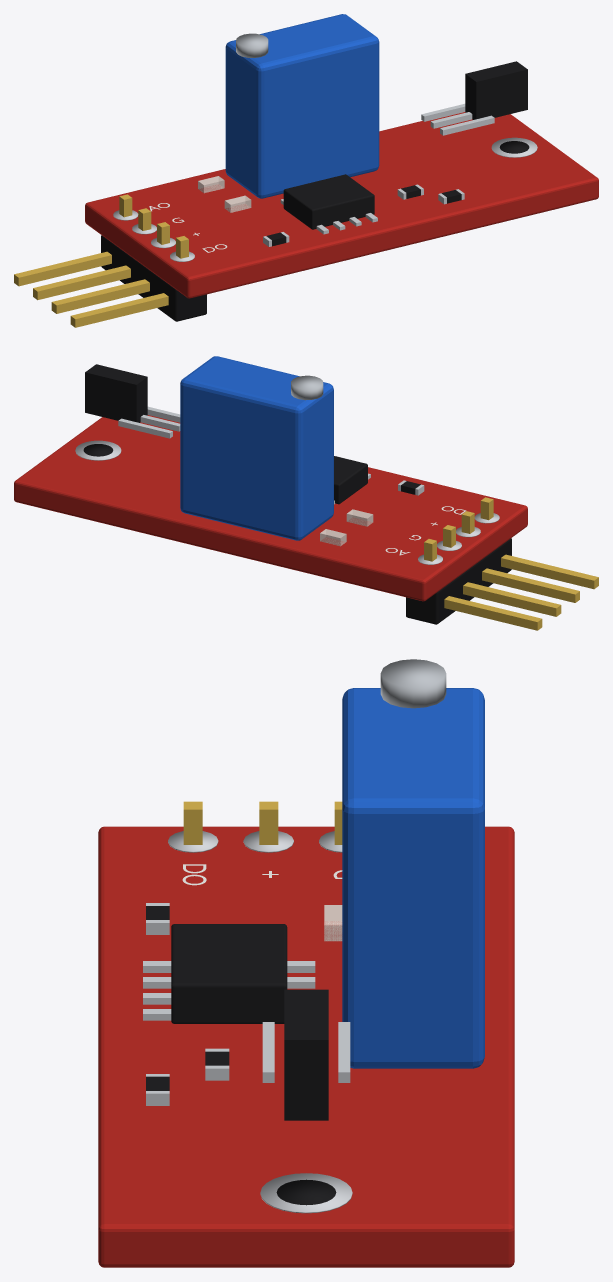
The model's file is linear-hall-sensor.glb.
3 views of the same model, one above another, from view 1: azimuth 30°, elevation 25°; view 2: azimuth 150°, elevation 25°; view 3: azimuth 270°, elevation 25° (orthographic). The views are drawn at different scales.
Parts seen in each view (by area): view 1: pcb.011, trimpot, lm393, part.047, header.011, pin_h.035, pin_h.036, pin_h.033, pin_h.034, trim_screw, hole_ring.022, part.048; view 2: pcb.011, trimpot, part.047, header.011, pin_h.034, pin_h.033, pin_h.036, pin_h.035, lm393, trim_screw, hole_ring.022, part.050; view 3: pcb.011, trimpot, lm393, part.047, trim_screw, hole_ring.022, hole.022, pin_v.035, pin_v.036, part.048, part.050.
Boxes of the visible parts, bbox=[...] form: pcb.011: bbox=[85, 112, 598, 298]; trimpot: bbox=[225, 14, 379, 198]; lm393: bbox=[283, 174, 374, 229]; part.047: bbox=[465, 61, 527, 119]; header.011: bbox=[101, 235, 206, 321]; pin_h.035: bbox=[51, 279, 149, 313]; pin_h.036: bbox=[70, 293, 168, 327]; pin_h.033: bbox=[14, 251, 111, 286]; pin_h.034: bbox=[33, 265, 130, 300]; trim_screw: bbox=[236, 33, 268, 57]; hole_ring.022: bbox=[491, 137, 537, 157]; part.048: bbox=[440, 115, 494, 135]; pcb.011: bbox=[14, 415, 527, 601]; trimpot: bbox=[180, 356, 333, 540]; part.047: bbox=[85, 364, 147, 422]; header.011: bbox=[406, 538, 511, 624]; pin_h.034: bbox=[463, 582, 561, 616]; pin_h.033: bbox=[444, 596, 542, 630]; pin_h.036: bbox=[501, 554, 598, 589]; pin_h.035: bbox=[482, 568, 579, 602]; lm393: bbox=[334, 456, 367, 504]; trim_screw: bbox=[291, 375, 323, 400]; hole_ring.022: bbox=[75, 440, 121, 460]; part.050: bbox=[118, 418, 172, 438]; pcb.011: bbox=[98, 826, 514, 1267]; trimpot: bbox=[342, 688, 484, 1068]; lm393: bbox=[171, 924, 287, 1023]; part.047: bbox=[284, 989, 328, 1120]; trim_screw: bbox=[380, 659, 446, 708]; hole_ring.022: bbox=[260, 1173, 352, 1213]; hole.022: bbox=[276, 1179, 336, 1205]; pin_v.035: bbox=[259, 801, 278, 844]; pin_v.036: bbox=[183, 801, 202, 844]; part.048: bbox=[262, 1022, 274, 1082]; part.050: bbox=[338, 1022, 350, 1082].
Size of the model in its own units: 0.0391 by 0.0149 by 0.014.
